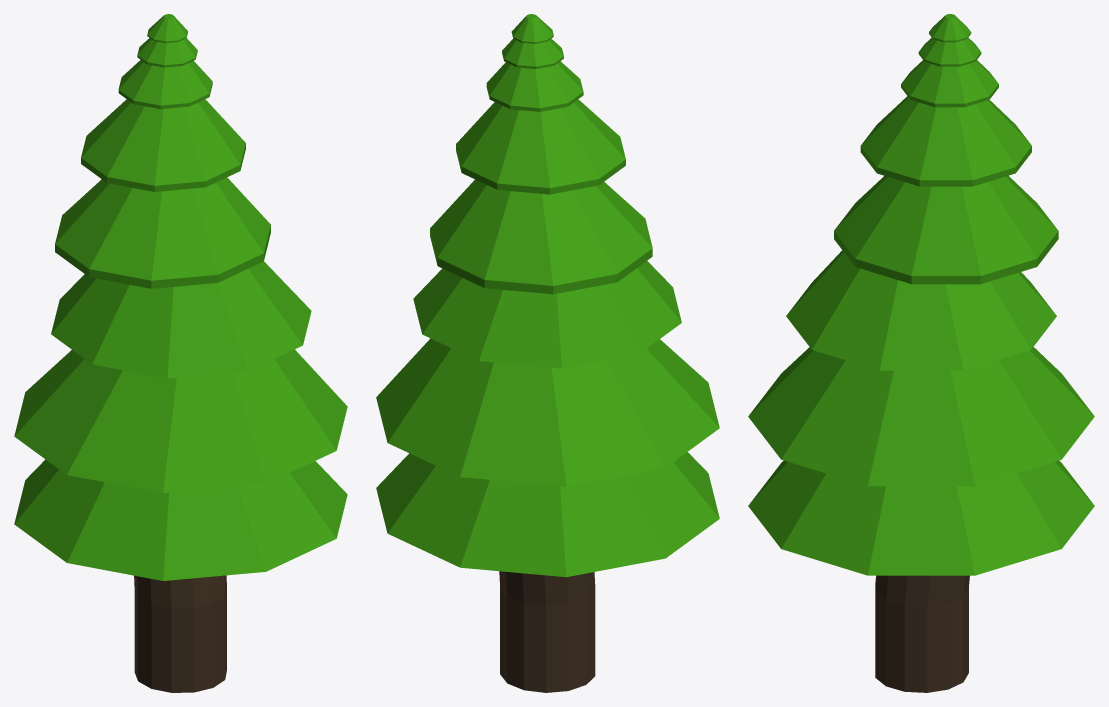
The model's file is PineTree.fbx.
The picture shows the model from 3 angles, left to right: view 1: azimuth 30°, elevation 25°; view 2: azimuth 150°, elevation 25°; view 3: azimuth 270°, elevation 25°; orthographic projection. The views are drawn at different scales.
Visible parts, largest first — view 1: Circle; view 2: Circle; view 3: Circle.
Boxes of the visible parts, box(x1,y1,x2,y2) form: Circle: box(14, 14, 347, 692); Circle: box(376, 14, 719, 692); Circle: box(748, 14, 1094, 692).
Size of the model in its own units: 690 by 1518 by 725.
